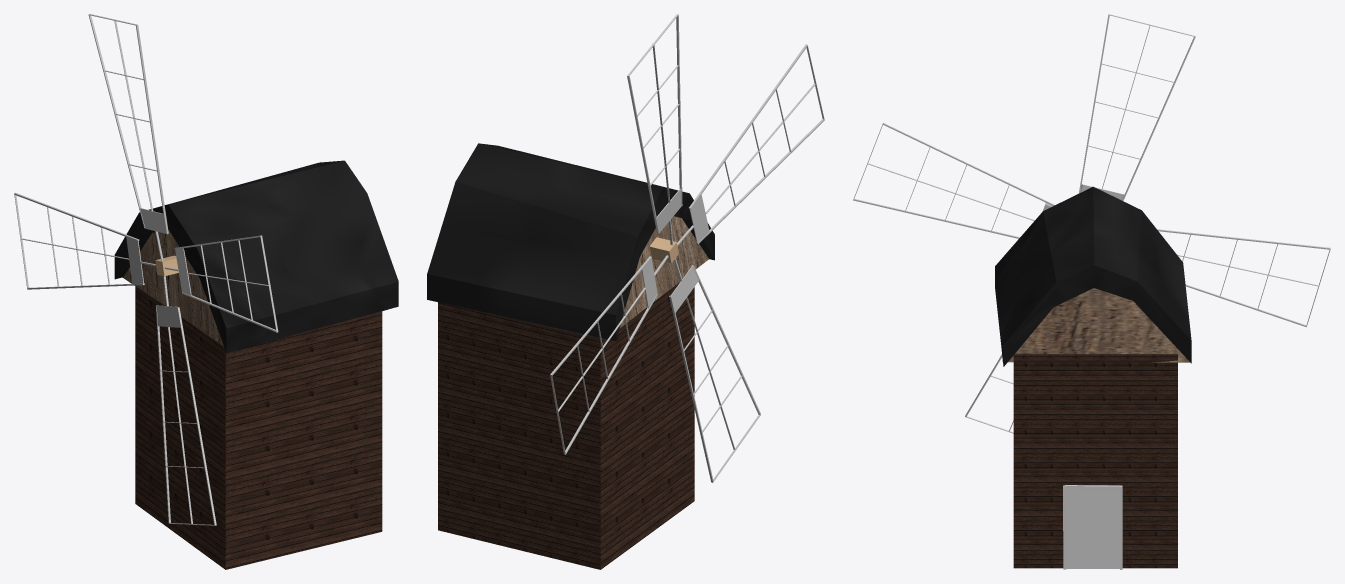
The model's file is windmill.fbx.
The picture shows the model from 3 angles, left to right: view 1: azimuth 30°, elevation 25°; view 2: azimuth 150°, elevation 25°; view 3: azimuth 270°, elevation 25°; orthographic projection. The views are drawn at different scales.
Visible parts, largest first — view 1: House, Roof, Windmill; view 2: House, Roof, Windmill; view 3: House, Roof, Door, Windmill.
Boxes of the visible parts, x1,y1,x2,y2 form: House: (135,286,382,569); Roof: (114,160,398,352); Windmill: (14,14,278,525); House: (438,281,694,569); Roof: (427,143,714,340); Windmill: (550,14,824,482); House: (1013,353,1177,568); Roof: (995,186,1191,366); Door: (1063,485,1122,569); Windmill: (853,14,1330,433).
Bounding box in the file's own units: 465 × 1118 × 1032.
